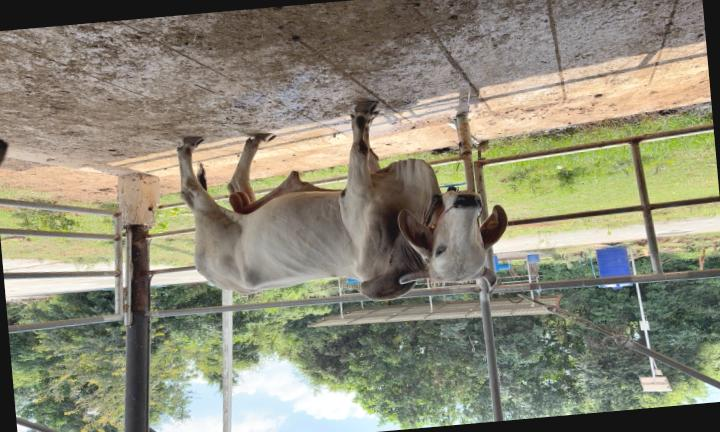Brahman: (178, 101, 508, 300)
